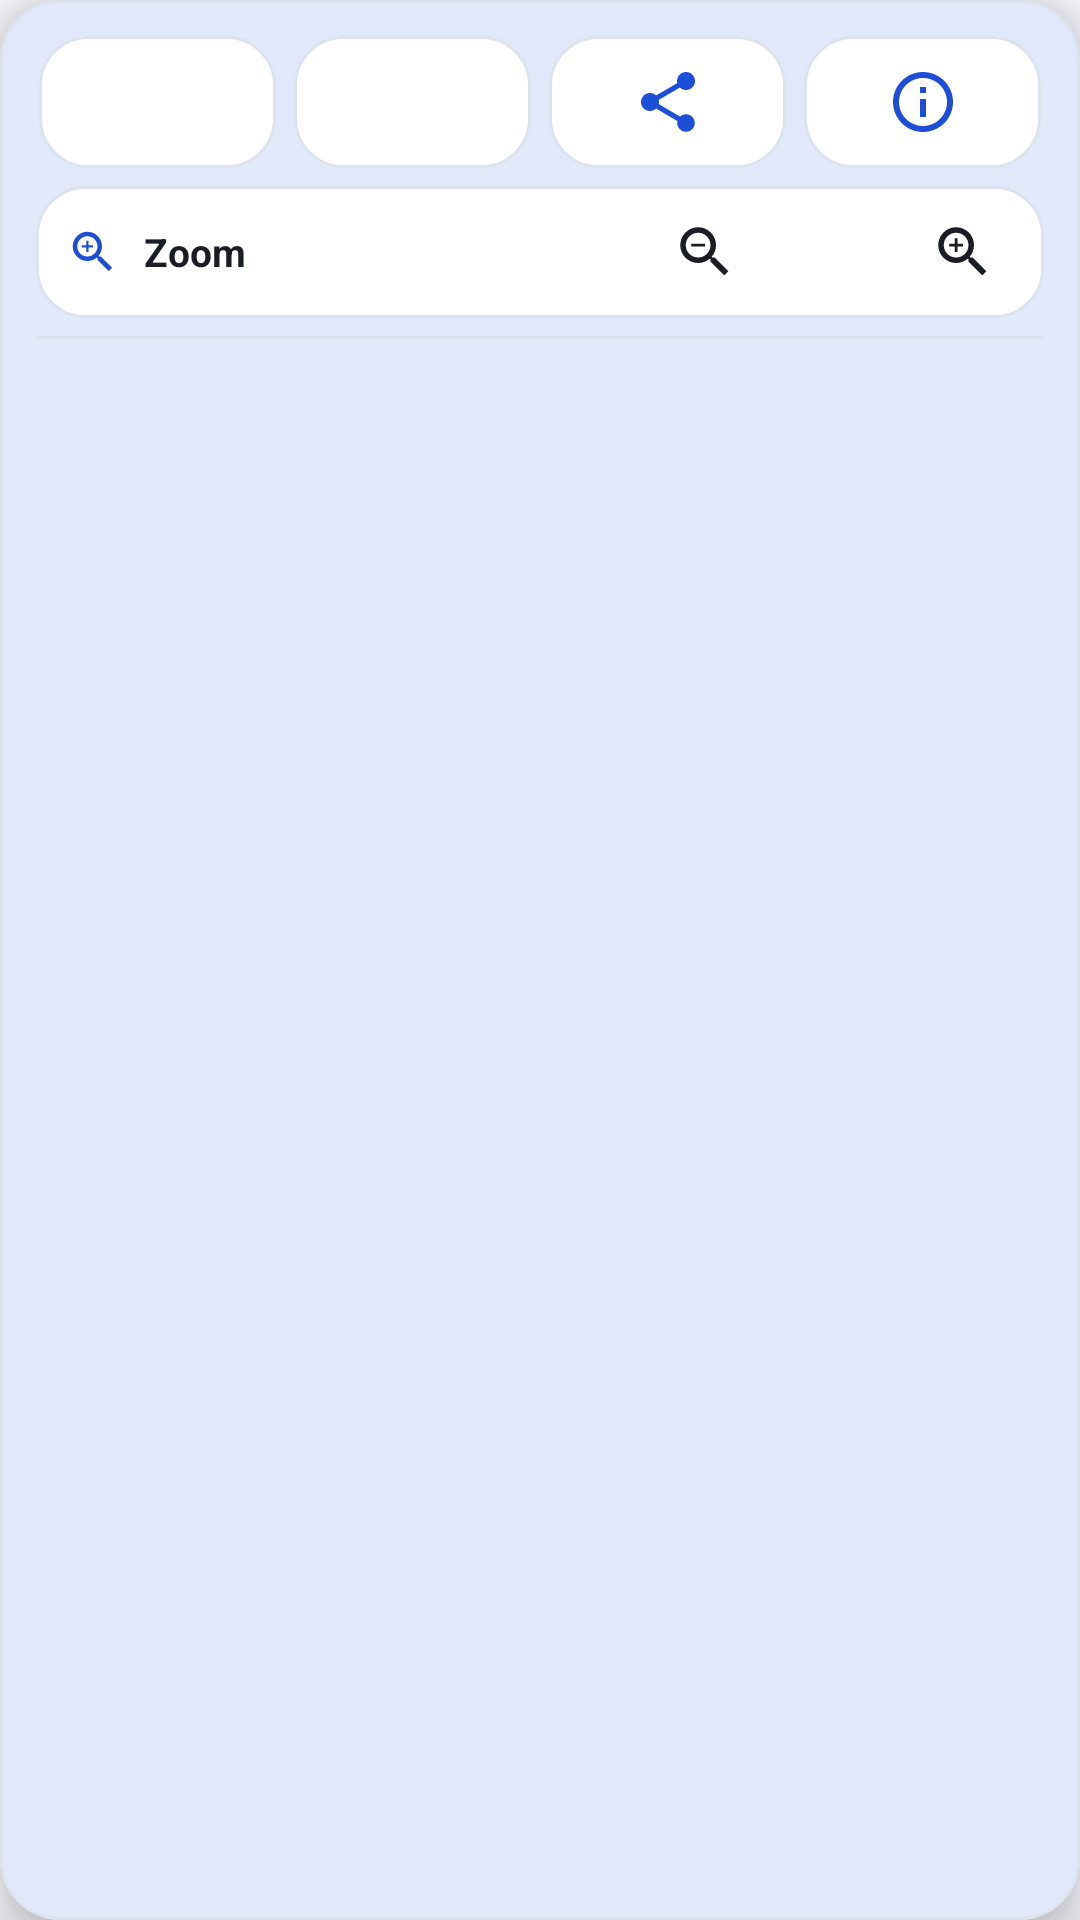

Icons on this 1080×1920 Android screen, each with its box as BBox(x1, y1, x2, y2):
Share: BBox(552, 39, 783, 165)
Site information: BBox(807, 39, 1038, 165)
